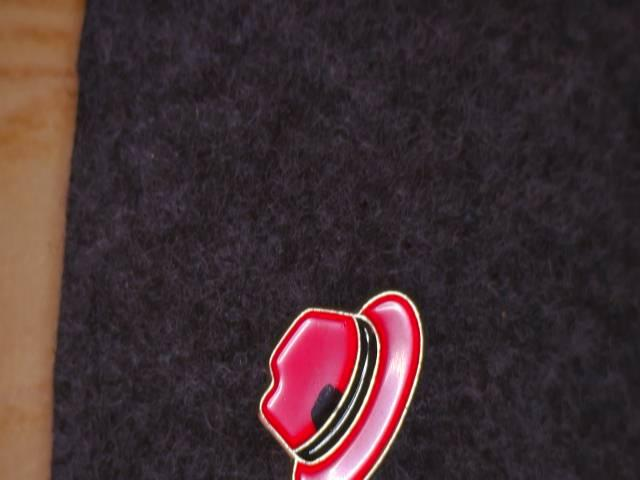Red-Hat: (234, 269, 440, 480)
Scratch: (301, 371, 369, 451)
